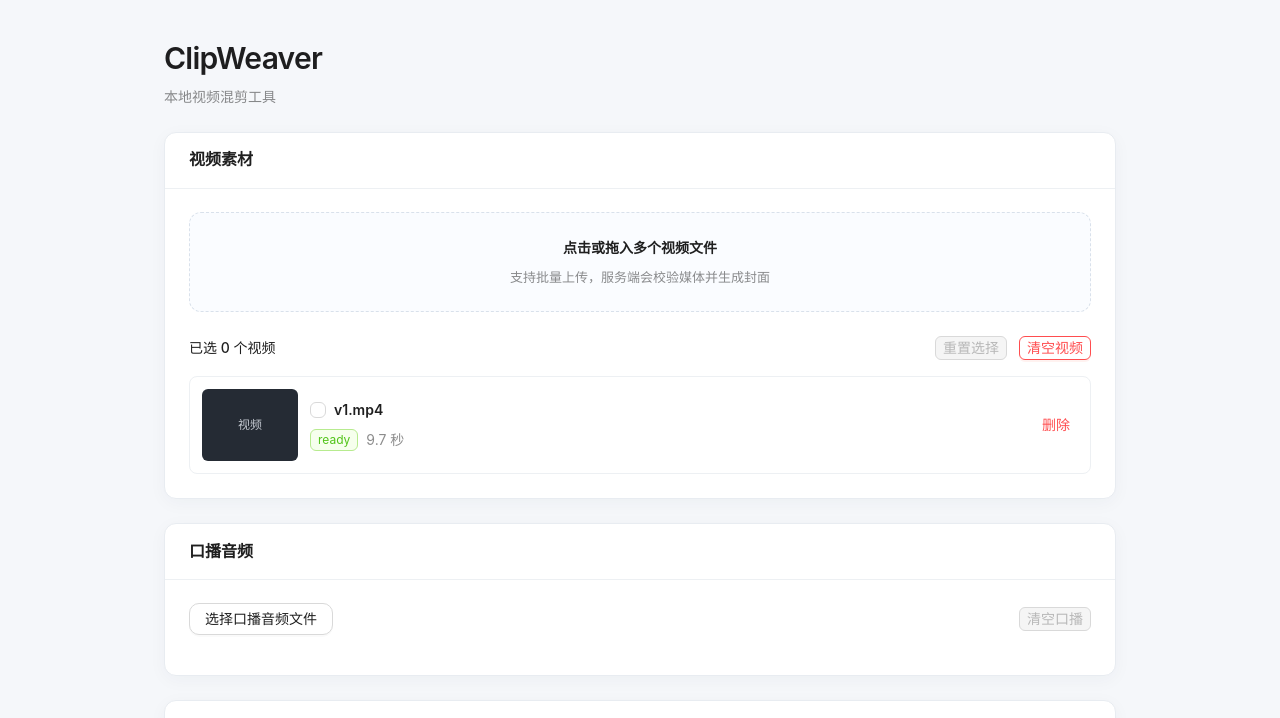
Test: failed DELETE retains video and shows a card error
The image size is (1280, 718).
Expected: the button with aria-label "删除视频 v1.mp4" is shown, [1034,413,1078,437]
Click the checkbox named "选择视频 v1.mp4" at {"x": 318, "y": 410}, box [310,399,326,421]
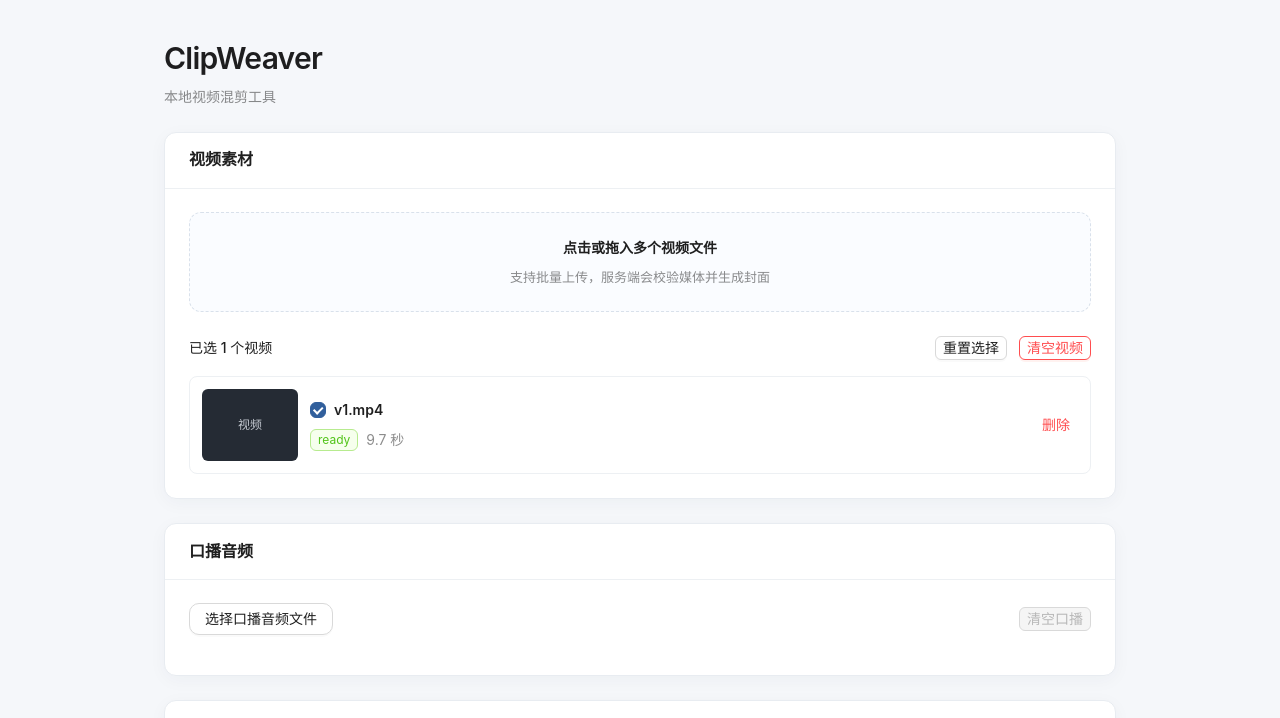
Click the button with aria-label "删除视频 v1.mp4" at {"x": 1056, "y": 425}, box [1034,413,1078,437]
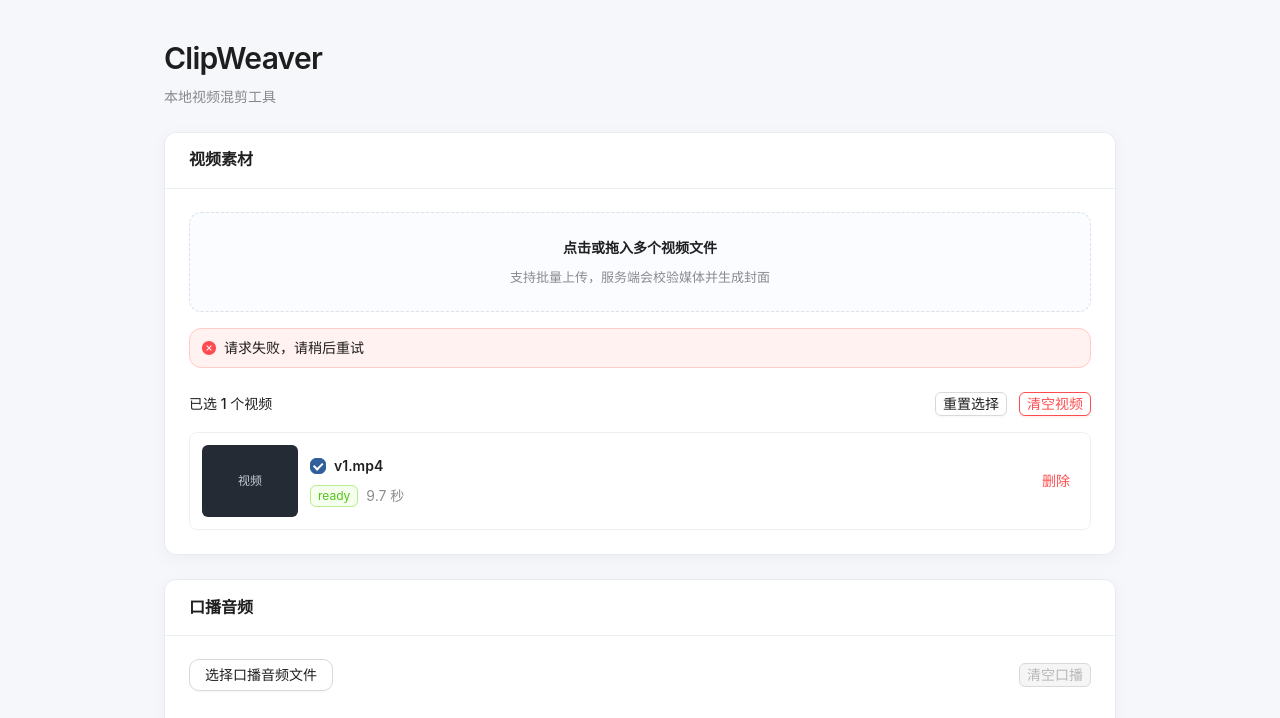
Expected: the checkbox named "选择视频 v1.mp4" is shown, [310,455,326,477]
Now the text "已选 1 个视频" is shown, box [189,393,272,415]
Now the message reads "请求失败，请稍后重试", box [224,339,364,356]
